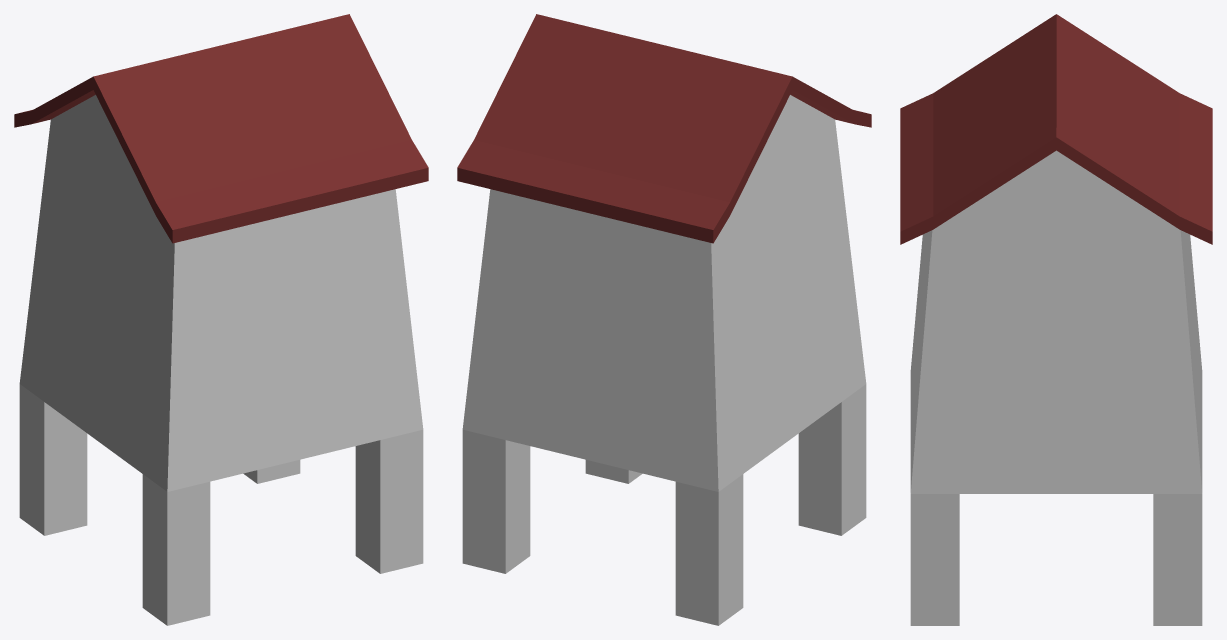
File: hive.glb
3 views of the same model, side by side, from view 1: azimuth 30°, elevation 25°; view 2: azimuth 150°, elevation 25°; view 3: azimuth 270°, elevation 25° (orthographic).
Parts seen in each view (by area): view 1: Cube, Cube.001; view 2: Cube, Cube.001; view 3: Cube, Cube.001.
Part boxes in pixels (x1,y1,x2,y2): Cube: (19, 95, 423, 625); Cube.001: (14, 14, 428, 243); Cube: (462, 95, 866, 625); Cube.001: (457, 14, 871, 243); Cube: (910, 150, 1202, 625); Cube.001: (900, 14, 1212, 244).
Size of the model in its own units: 2 by 3.7 by 2.14.
